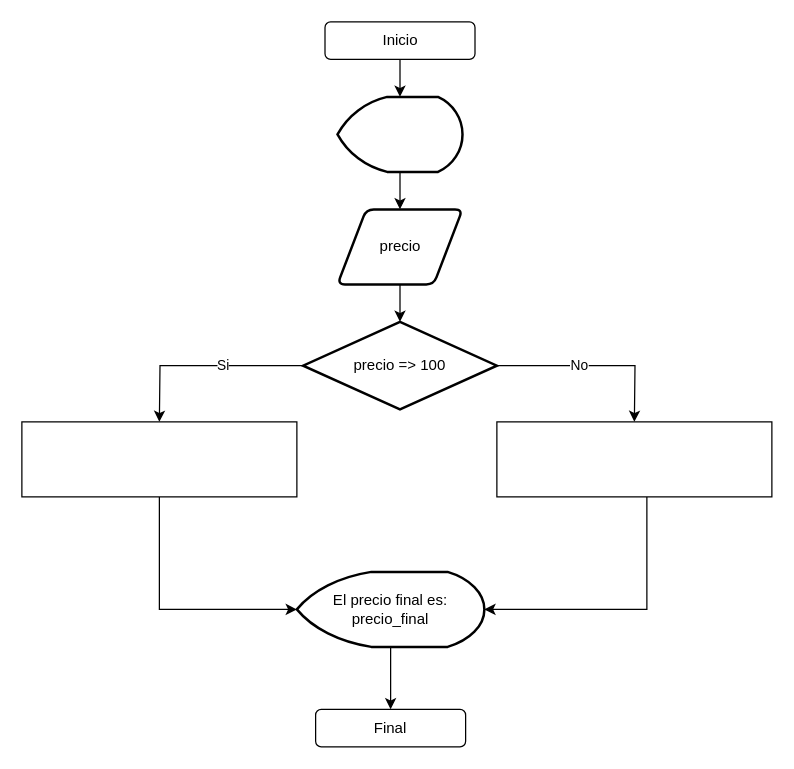
The diagram is 794 pixels wide and 769 high, and some of its shapes have lost their labels. Each missing label, with the centre of its shape:
descuento = precio * 0.02 descuento final = precio - descuento: [634,459]
descuento = precio * 0.10 descuento_final = precio - descuento: [159,459]
Digite el precio del producto: [399,133]
